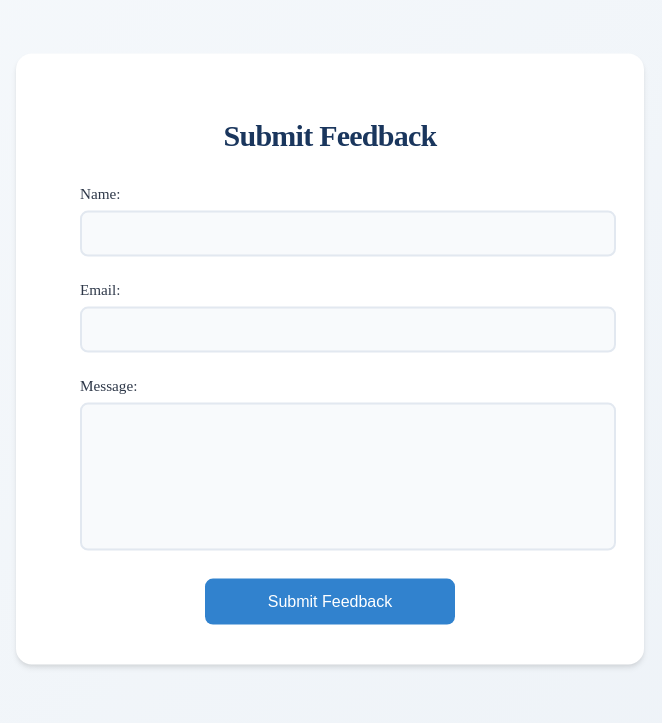
Test: FeedbackForm › shows error if supabase insert fails
Type "Jane" into the field labelled "Name:".
click(348, 233); type("Jane")  # box [80, 210, 616, 256]
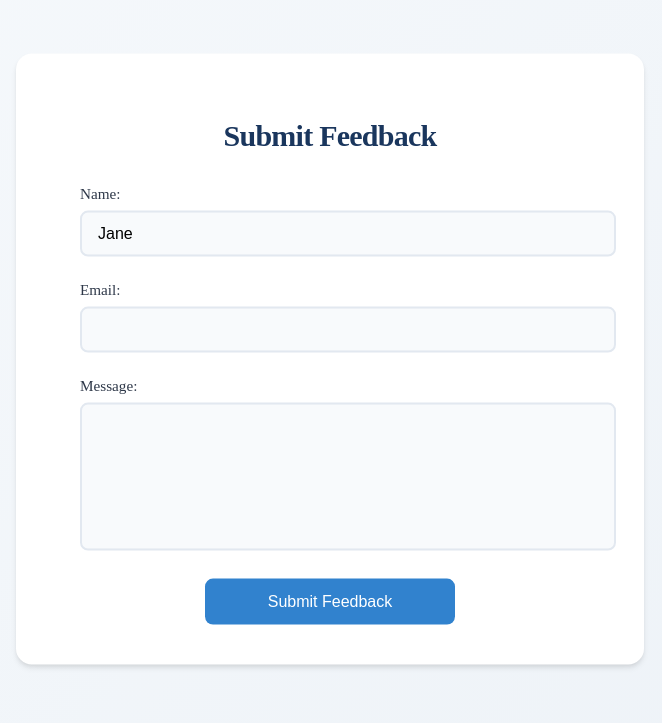
Type "jane@example.com" into the field labelled "Email:".
click(348, 329); type("jane@example.com")  # box [80, 306, 616, 352]
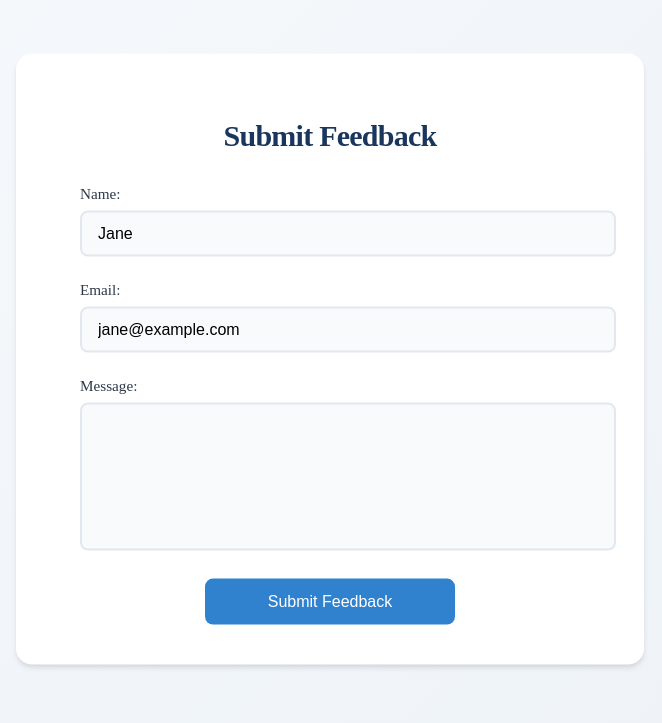
Type "Feedback message" into the text box labelled "Message:".
click(348, 476); type("Feedback message")  # box [80, 402, 616, 550]
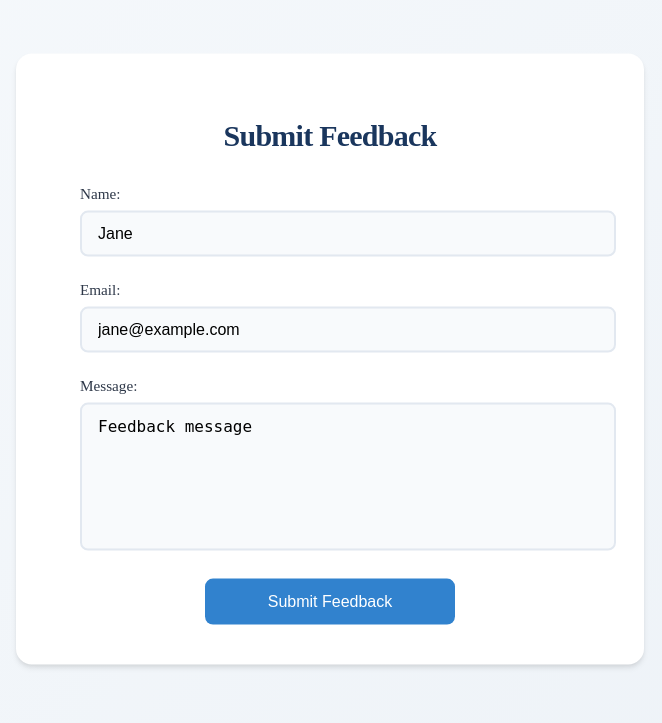
Click the button "Submit Feedback".
click(330, 601)  # box [205, 578, 455, 624]
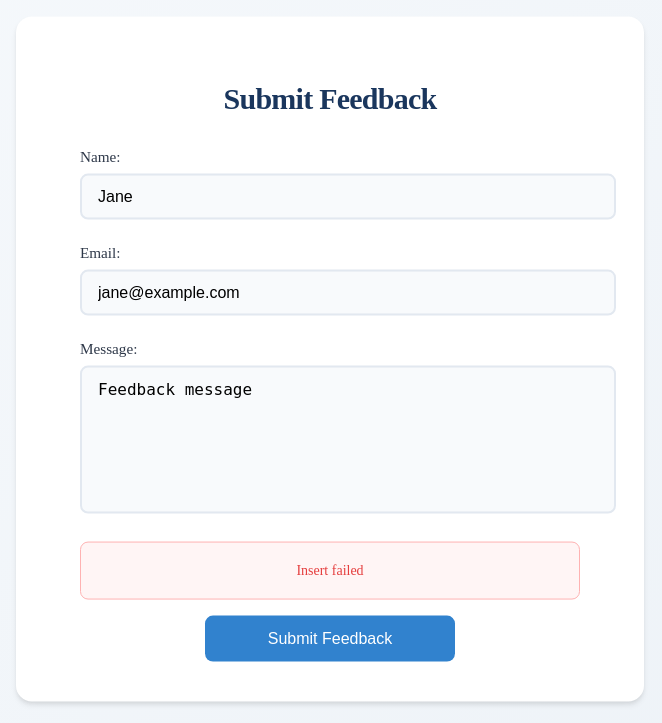
Expected: the text "Insert failed" is shown, [80, 541, 580, 599]
